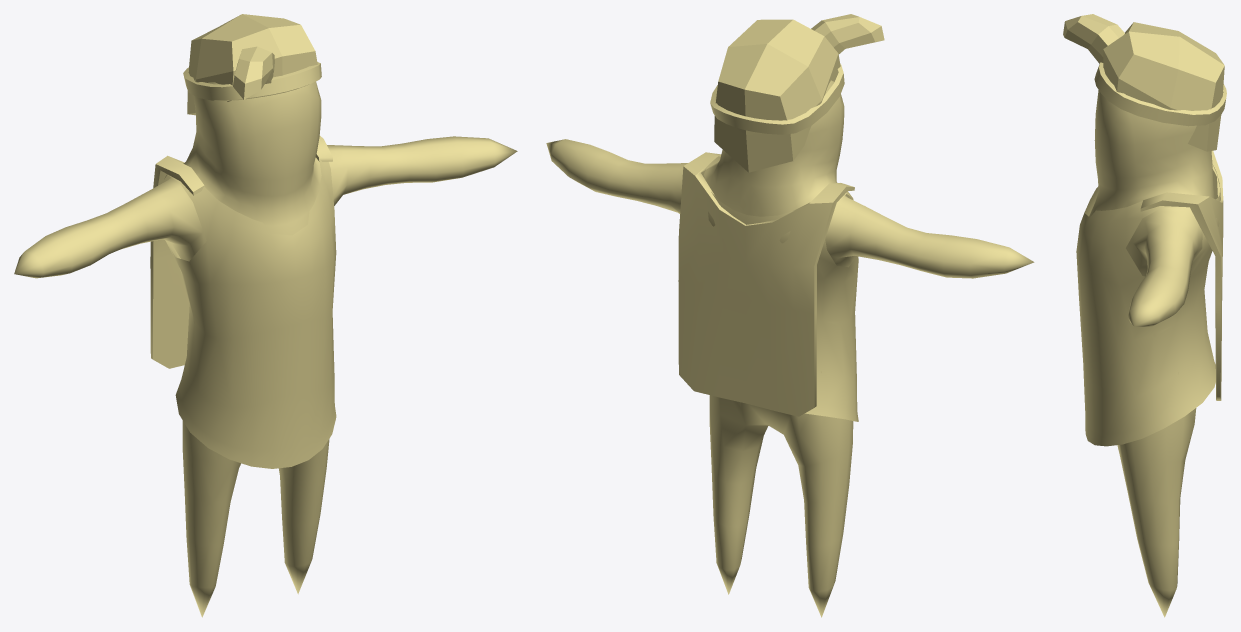
3 views of the same model, side by side, from view 1: azimuth 30°, elevation 25°; view 2: azimuth 150°, elevation 25°; view 3: azimuth 270°, elevation 25° (orthographic). The views are drawn at different scales.
Parts seen in each view (by area): view 1: Body_low, Cloths_low, Hair, Cape_low, Band_low, Hair2; view 2: Body_low, Cape_low, Hair, Cloths_low, Band_low, Hair2; view 3: Body_low, Cloths_low, Hair, Cape_low, Band_low, Hair2.
Boxes of the visible parts, x1,y1,x2,y2 form: Body_low: (14, 81, 517, 617); Cloths_low: (164, 159, 336, 468); Hair: (187, 14, 317, 115); Cape_low: (150, 135, 332, 368); Band_low: (183, 62, 321, 100); Hair2: (233, 46, 274, 99); Body_low: (546, 80, 1034, 617); Cape_low: (678, 152, 854, 416); Hair: (714, 19, 840, 172); Cloths_low: (701, 169, 858, 421); Band_low: (710, 64, 844, 134); Hair2: (811, 14, 884, 54); Body_low: (1089, 90, 1214, 617); Cloths_low: (1076, 164, 1220, 446); Hair: (1103, 22, 1224, 151); Cape_low: (1140, 150, 1223, 400); Band_low: (1094, 62, 1226, 126); Hair2: (1063, 14, 1124, 63).
Size of the model in its own units: 53.12 by 15.7 by 59.64.
